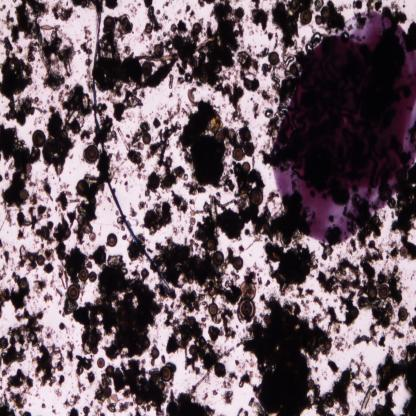Background material: (244, 294, 336, 414), (65, 254, 163, 358), (172, 0, 246, 93), (152, 239, 242, 302), (181, 96, 236, 197), (189, 202, 303, 248), (163, 304, 230, 381), (0, 120, 42, 209), (307, 356, 371, 414), (112, 362, 167, 416), (74, 154, 105, 247), (376, 343, 416, 415), (0, 307, 45, 366), (266, 242, 318, 292), (353, 298, 401, 346), (0, 36, 32, 108), (46, 103, 76, 176), (58, 213, 88, 284), (272, 0, 310, 48), (390, 166, 416, 232), (60, 84, 93, 135), (319, 263, 364, 300), (147, 124, 180, 174), (31, 343, 65, 389), (0, 270, 32, 316), (166, 386, 216, 415), (11, 1, 46, 41), (229, 162, 265, 197), (236, 50, 261, 94), (249, 1, 274, 45), (361, 241, 385, 286), (140, 201, 172, 234), (357, 214, 384, 251), (114, 88, 142, 121), (4, 366, 34, 392), (326, 0, 346, 34), (235, 126, 256, 157), (60, 37, 76, 77), (324, 304, 344, 334), (221, 304, 238, 339), (397, 233, 416, 264), (162, 97, 183, 125), (388, 269, 405, 303), (180, 288, 206, 310), (144, 174, 165, 201), (245, 263, 267, 288), (382, 3, 408, 24), (126, 151, 146, 178), (18, 243, 37, 271), (32, 221, 54, 245), (49, 0, 74, 21), (31, 274, 48, 304), (131, 122, 150, 148), (349, 358, 372, 379), (102, 114, 118, 144), (170, 190, 190, 214), (72, 0, 104, 14), (8, 388, 28, 410), (16, 209, 39, 228), (238, 400, 266, 415), (332, 329, 351, 351), (108, 156, 124, 181), (0, 391, 16, 416), (75, 355, 94, 376), (53, 190, 72, 210), (40, 175, 54, 202), (265, 108, 278, 137), (90, 245, 107, 267), (0, 250, 11, 280), (57, 264, 70, 289), (17, 108, 35, 126), (405, 21, 416, 50), (172, 166, 190, 182), (126, 242, 141, 261), (62, 394, 80, 409), (37, 204, 52, 222), (388, 327, 406, 342), (387, 241, 399, 263), (222, 370, 236, 388), (65, 340, 76, 362), (237, 372, 252, 388), (320, 243, 334, 260), (41, 246, 55, 262), (4, 8, 14, 29), (346, 237, 357, 256), (365, 0, 382, 12), (328, 358, 339, 376), (352, 374, 363, 392), (81, 41, 94, 56), (28, 190, 40, 206), (376, 271, 388, 287), (128, 202, 138, 220), (79, 127, 94, 139), (4, 209, 14, 227), (408, 310, 416, 332), (222, 392, 233, 408), (54, 288, 63, 307), (0, 233, 9, 252), (151, 111, 161, 128), (267, 190, 279, 204), (95, 100, 107, 114), (86, 65, 92, 93), (377, 334, 388, 349), (82, 25, 92, 41), (42, 261, 55, 273), (294, 285, 304, 300), (252, 102, 260, 120), (43, 291, 53, 305), (105, 0, 119, 10), (77, 378, 86, 393), (312, 296, 324, 307), (16, 228, 26, 240), (35, 106, 48, 115), (59, 323, 69, 334), (352, 1, 364, 10), (32, 97, 42, 107), (314, 0, 323, 11), (137, 201, 149, 209), (87, 371, 95, 383), (68, 408, 79, 416), (115, 215, 122, 227), (167, 76, 174, 88), (304, 288, 313, 297), (18, 410, 31, 416), (4, 168, 10, 181), (82, 406, 90, 415), (11, 243, 18, 253), (124, 180, 129, 194), (85, 57, 92, 66), (40, 402, 46, 412), (55, 390, 62, 398), (70, 199, 80, 204), (0, 4, 6, 12), (0, 173, 3, 183)
Cellulose filter fibre: (36, 31, 61, 88)
Cotton: (91, 3, 173, 294)
Diatom: (238, 298, 257, 322), (240, 279, 255, 299), (118, 130, 130, 151), (249, 188, 263, 206), (32, 130, 45, 147), (361, 390, 371, 412), (191, 20, 204, 36), (86, 146, 99, 162), (67, 284, 79, 301), (77, 180, 89, 196), (104, 16, 116, 30), (88, 332, 100, 346), (214, 364, 226, 378), (106, 232, 118, 246), (148, 174, 160, 188), (160, 367, 171, 382), (379, 285, 390, 300), (268, 51, 279, 66), (214, 250, 224, 266), (57, 129, 69, 142), (138, 267, 150, 280), (367, 286, 378, 300), (143, 24, 154, 38), (320, 6, 331, 20), (301, 9, 311, 24), (188, 86, 197, 102), (348, 306, 360, 318), (232, 148, 244, 160), (155, 43, 165, 57), (233, 256, 243, 270), (142, 61, 152, 75), (78, 268, 88, 282), (150, 370, 160, 383), (150, 347, 160, 360), (206, 238, 216, 251), (398, 307, 407, 321), (199, 71, 209, 83), (164, 175, 174, 187), (36, 254, 46, 266), (18, 188, 28, 200), (208, 304, 218, 316), (88, 269, 96, 284), (288, 64, 298, 75), (96, 357, 106, 368), (215, 132, 225, 143), (106, 365, 115, 377), (387, 196, 396, 208), (235, 7, 244, 19), (243, 162, 251, 175), (189, 345, 198, 356), (188, 316, 197, 327), (323, 339, 332, 350), (142, 133, 151, 144), (376, 403, 384, 415), (39, 24, 54, 30), (8, 109, 17, 119), (400, 247, 408, 258), (104, 387, 112, 398), (24, 98, 31, 110), (157, 380, 165, 390), (315, 14, 322, 25), (308, 378, 314, 390), (136, 395, 143, 405), (64, 228, 71, 238), (25, 162, 32, 172), (89, 233, 96, 241), (108, 407, 116, 412)
Pen: (271, 11, 416, 244)
